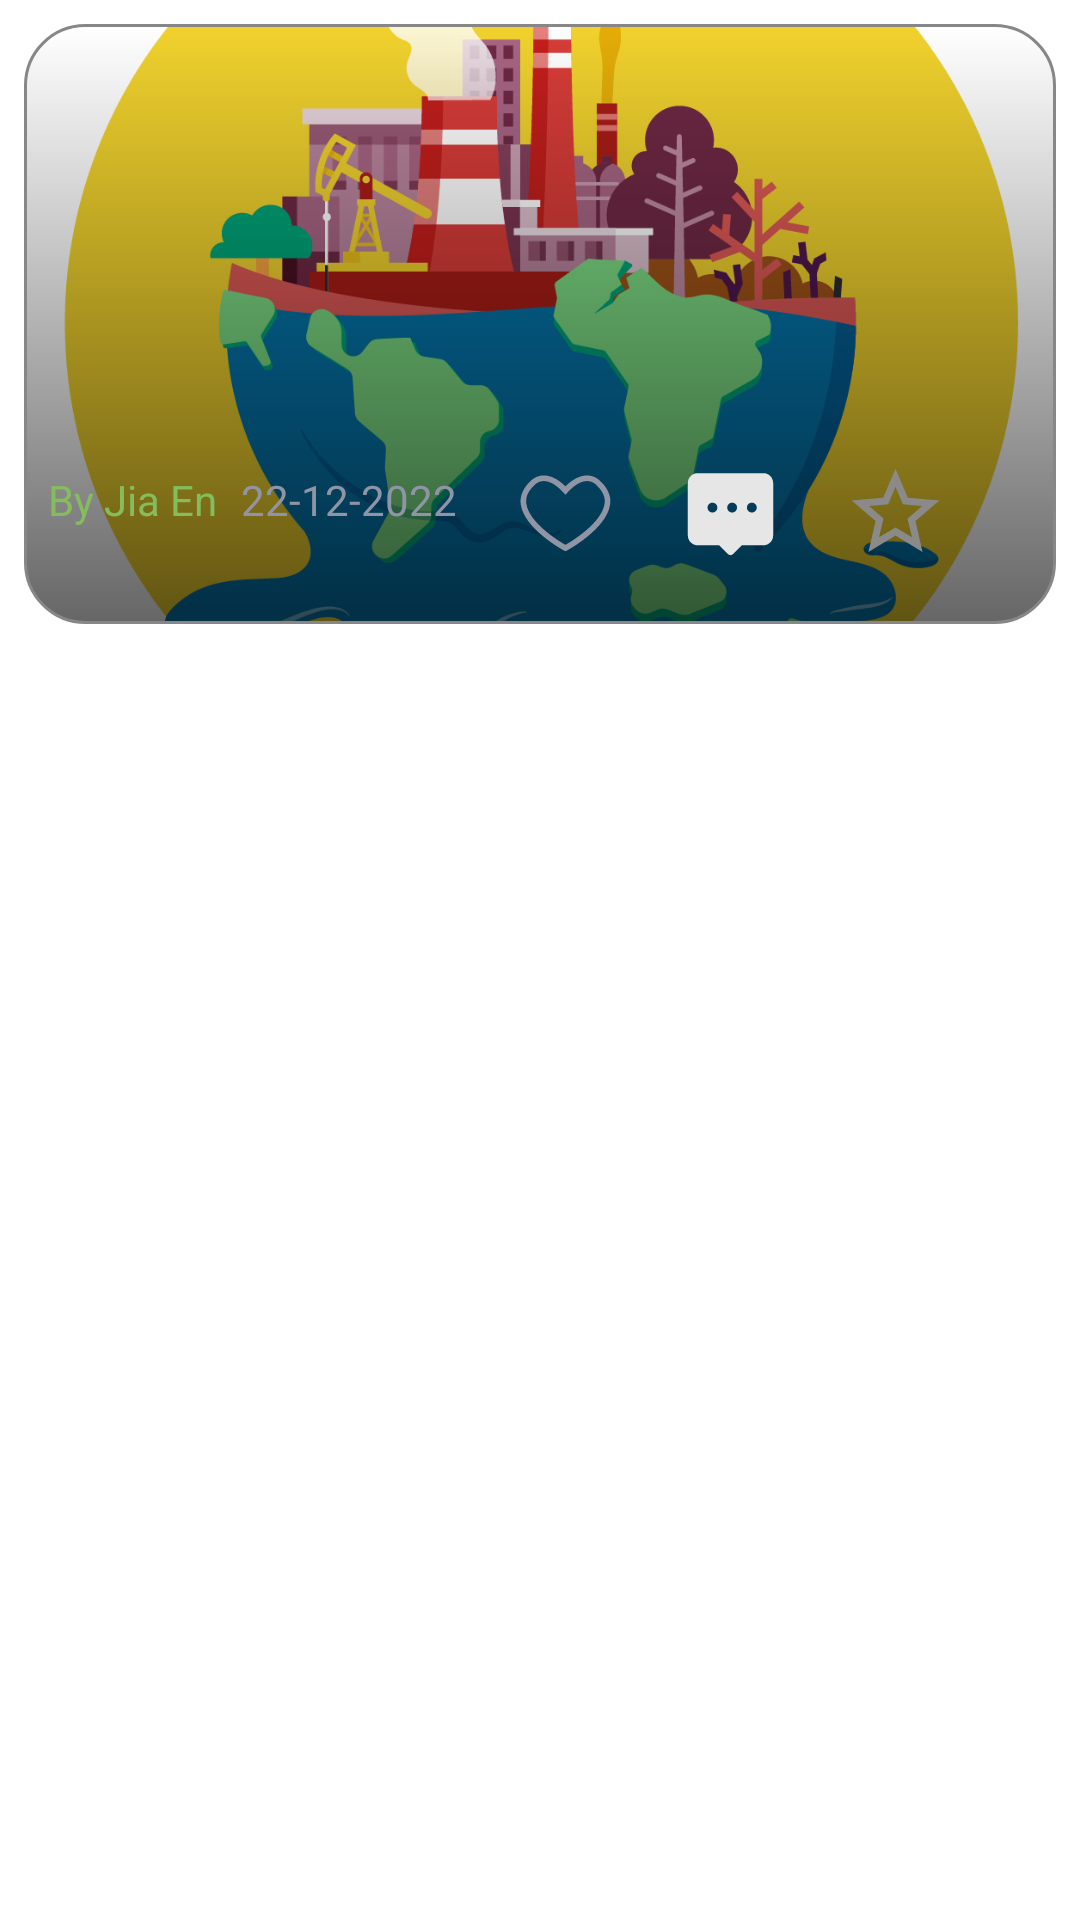

Icon bounding boxes for this 1080*1920 phone screenshot, format (x1, y1, x2, y2):
comment: (678, 460, 774, 565)
love: (513, 460, 618, 552)
star border: (843, 469, 948, 565)
